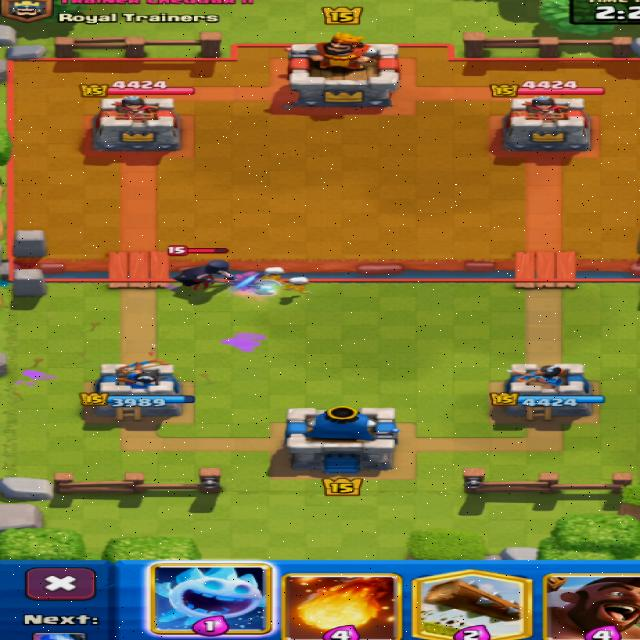Enemy-KingTower: (287, 32, 398, 106)
Enemy-NightWitch: (175, 258, 273, 295), (168, 245, 191, 258), (194, 248, 227, 255)
Enemy-PrincessTower: (94, 96, 180, 151), (504, 96, 589, 150)
Player-KingTower: (285, 406, 399, 475)
Player-PrincessTower: (80, 360, 194, 419), (492, 364, 603, 419)
Player-Skeleton: (283, 277, 312, 293), (263, 267, 283, 280)
